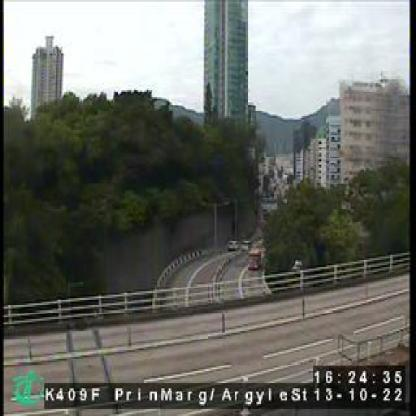Bus: (248, 246, 262, 270)
Car: (227, 238, 240, 254)
